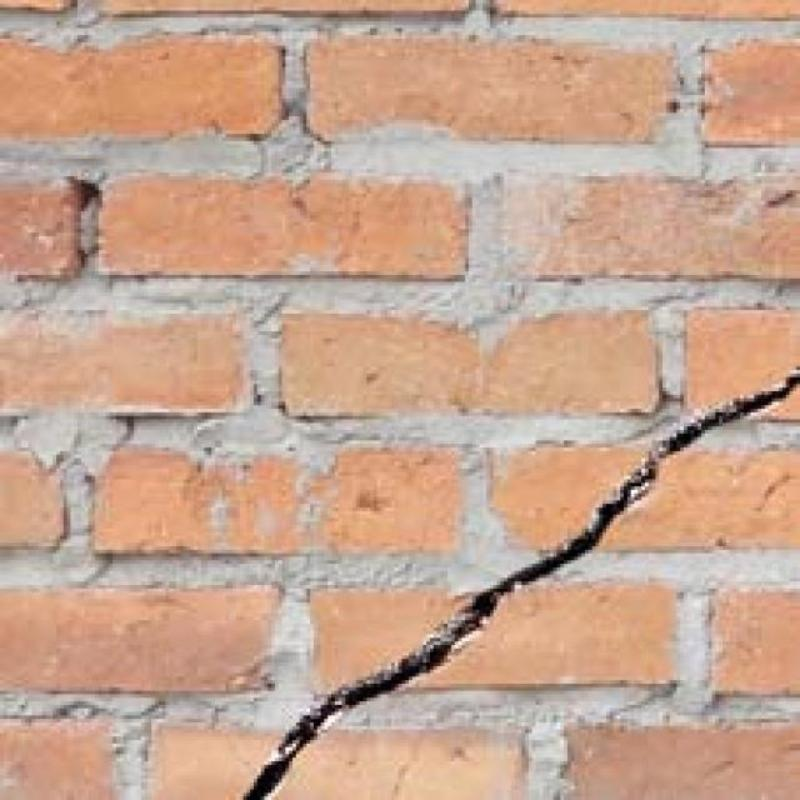pothole: (242, 370, 800, 799)
